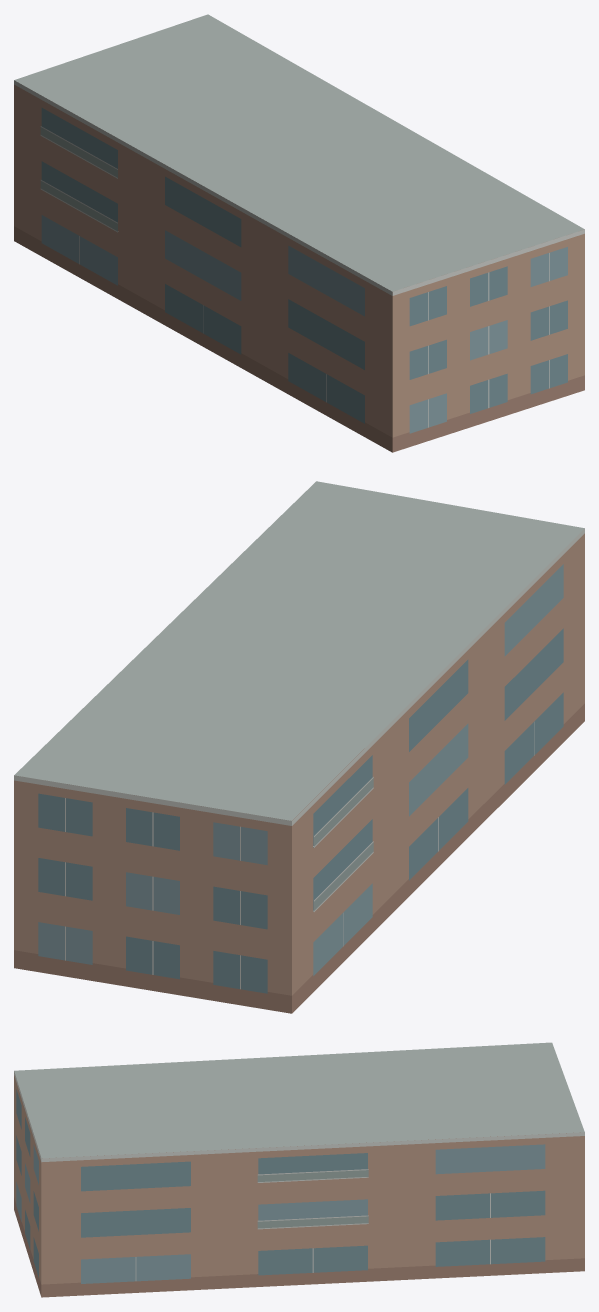
Rendered from survey-upis-33014398.glb.
The picture shows the model from 3 angles, top to bottom: view 1: azimuth 30°, elevation 25°; view 2: azimuth 150°, elevation 25°; view 3: azimuth 270°, elevation 25°; orthographic projection. The views are drawn at different scales.
Visible parts, largest first — view 1: survey-upis-33014398.tmp; view 2: survey-upis-33014398.tmp; view 3: survey-upis-33014398.tmp.
Part boxes in pixels (x1,y1,x2,y2): survey-upis-33014398.tmp: (14, 14, 584, 452); survey-upis-33014398.tmp: (14, 481, 584, 1013); survey-upis-33014398.tmp: (14, 1042, 584, 1297).
Bounding box in the file's own units: 16.39 × 9.15 × 34.07.
